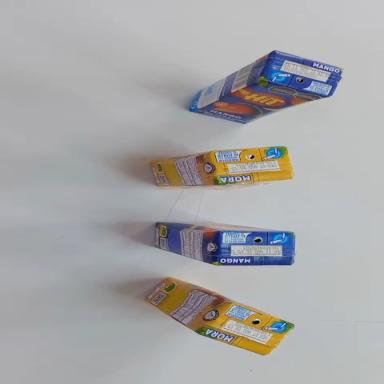HIT-MANGO: (181, 32, 349, 139), (151, 216, 297, 274)
HIT-MORA: (141, 269, 295, 366), (151, 145, 293, 192)
cara_F: (189, 61, 329, 139), (158, 216, 293, 240)
